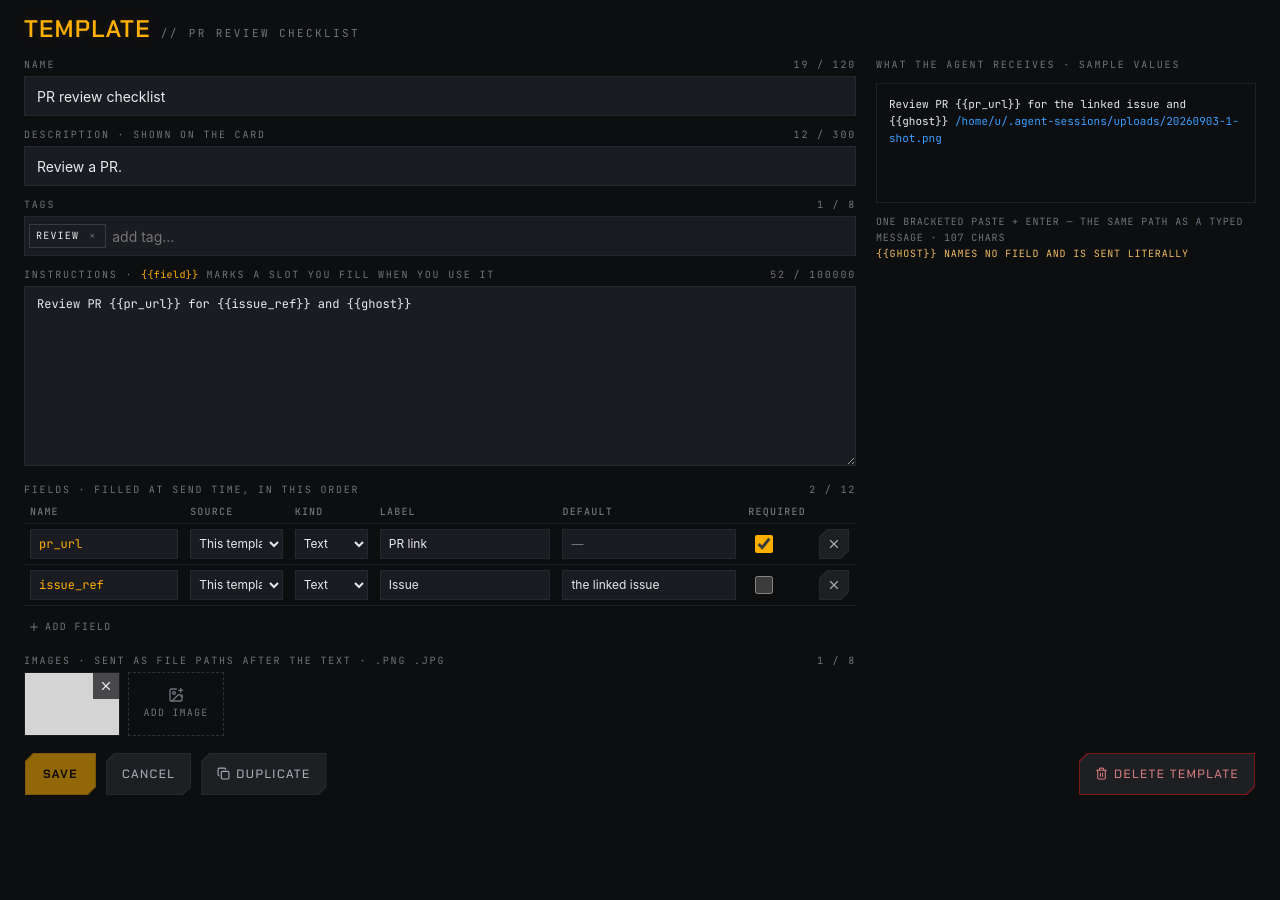
Test: a 409 → reload theirs replaces the form and drops the edits
Type "Mine" into the field labelled "Name 19 / 120" at [440, 96], box [24,76,856,116]
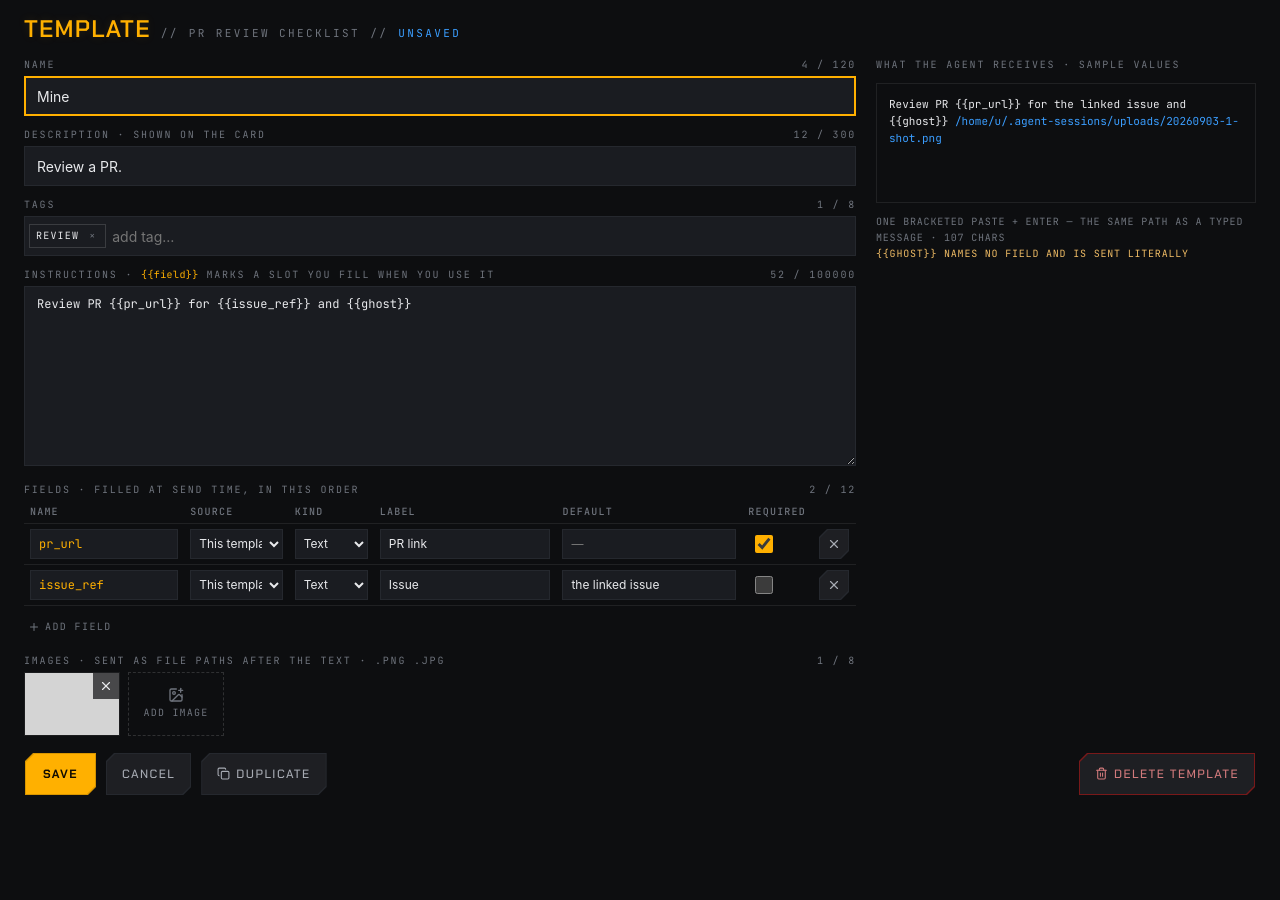
Click the button "Save" at [60, 774], box [24,752,97,796]
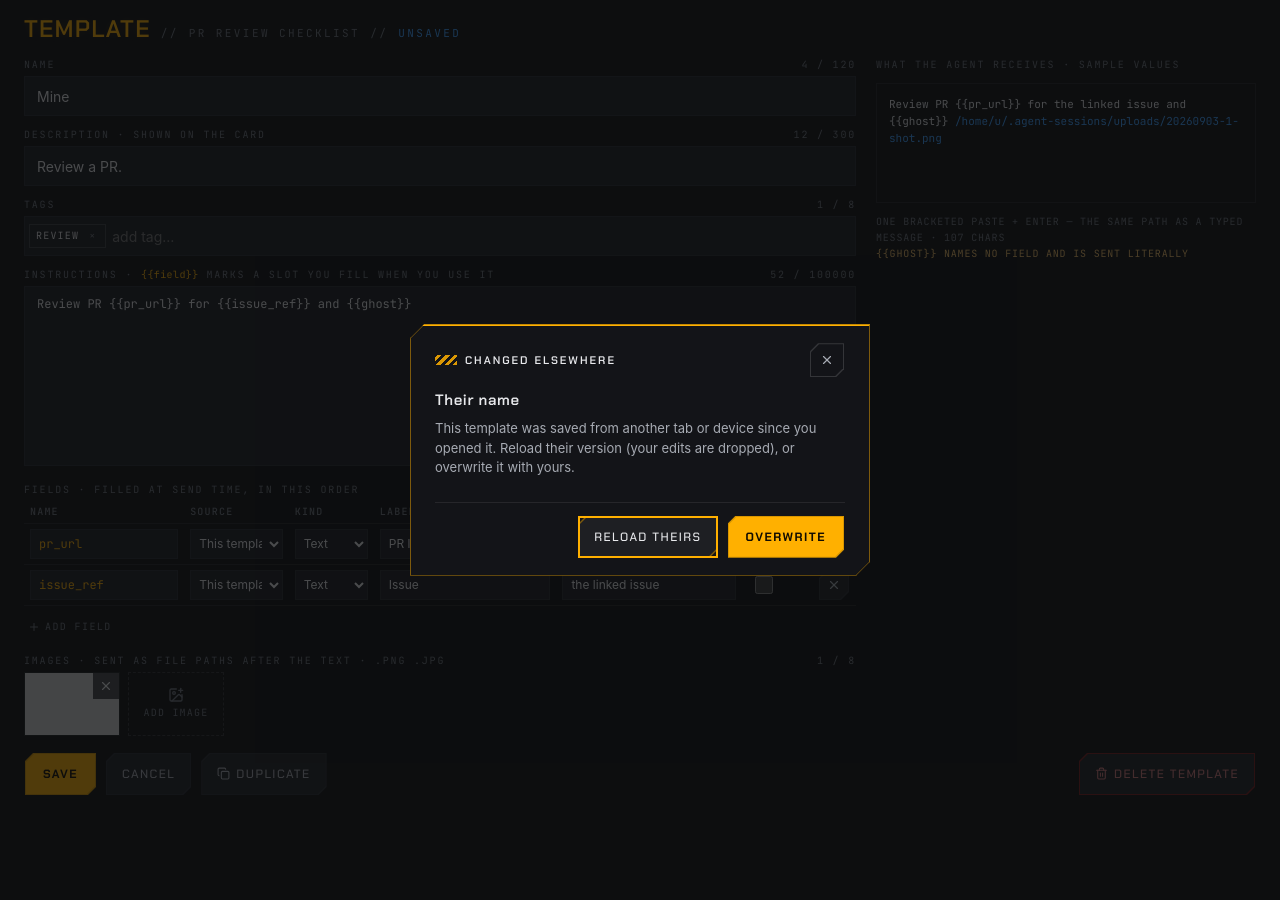
Click the button "Reload theirs" at [648, 537], box [577,515,719,559]
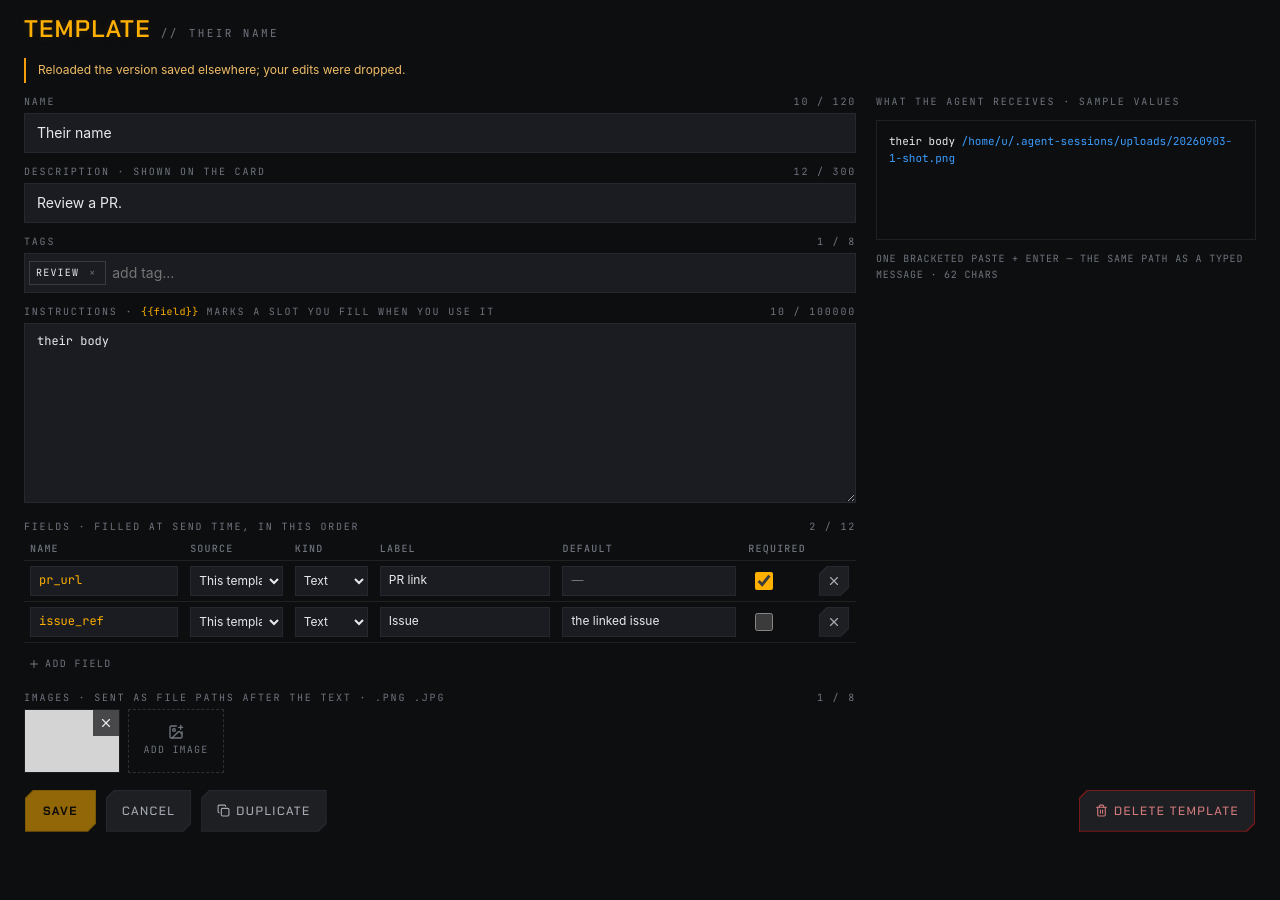
Expected: the field labelled "Name 10 / 120" holds "Their name", [24,113,856,153]
Expected: the text box labelled "Instructions" holds "their body", [24,323,856,503]
Expected: the button "Save" is disabled, [24,789,97,833]
